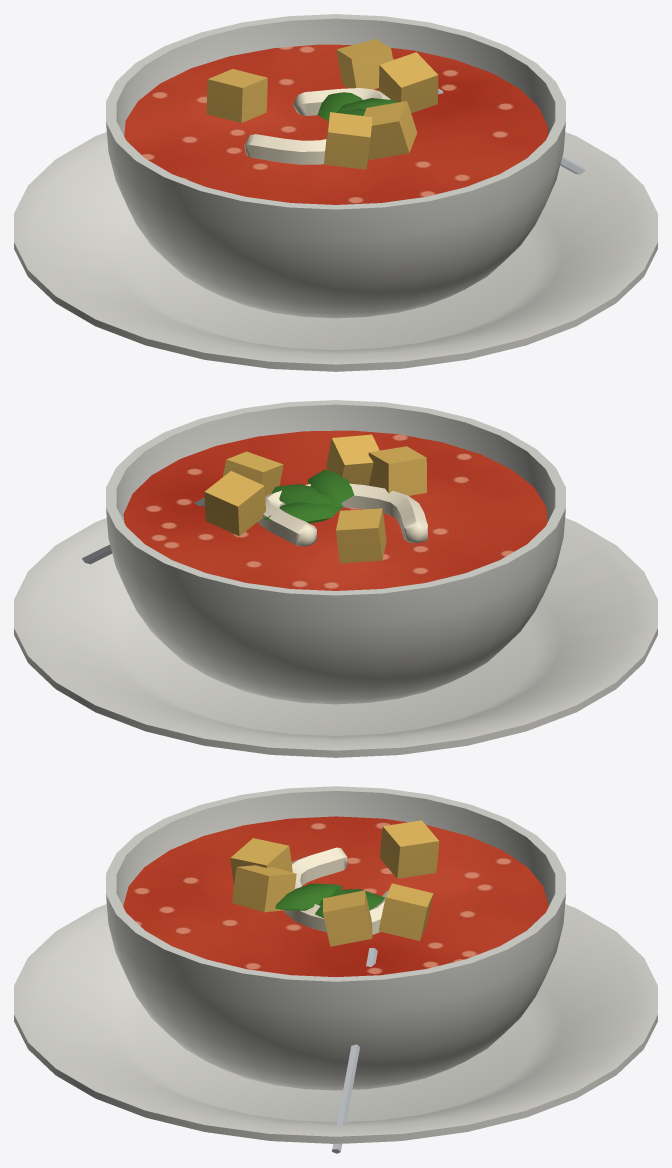
File: meal_tomato_soup_bowl.glb
3 renders of one model, top to bottom at view 1: azimuth 30°, elevation 25°; view 2: azimuth 150°, elevation 25°; view 3: azimuth 270°, elevation 25°, orthographic.
Parts seen in each view (by area): view 1: meal_tomato_soup_bowl; view 2: meal_tomato_soup_bowl; view 3: meal_tomato_soup_bowl.
Part boxes in pixels (box(x1,y1,x2,y2)): meal_tomato_soup_bowl: box(14, 14, 657, 371); meal_tomato_soup_bowl: box(14, 400, 657, 757); meal_tomato_soup_bowl: box(14, 786, 657, 1153).
Size of the model in its own units: 0.21 by 0.0704 by 0.2088.
Materials: 6 (1 with a texture image).
